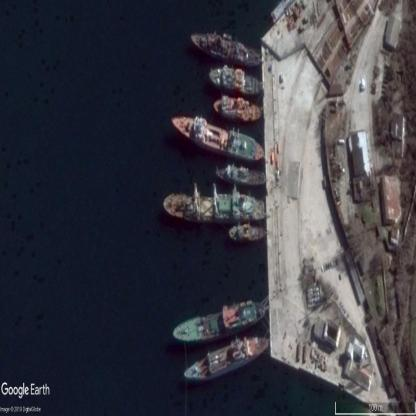ship: (175, 116, 262, 160), (186, 338, 268, 379), (177, 303, 266, 338), (164, 191, 265, 219), (210, 68, 262, 94), (215, 94, 261, 121), (216, 163, 263, 187), (231, 227, 263, 241)
